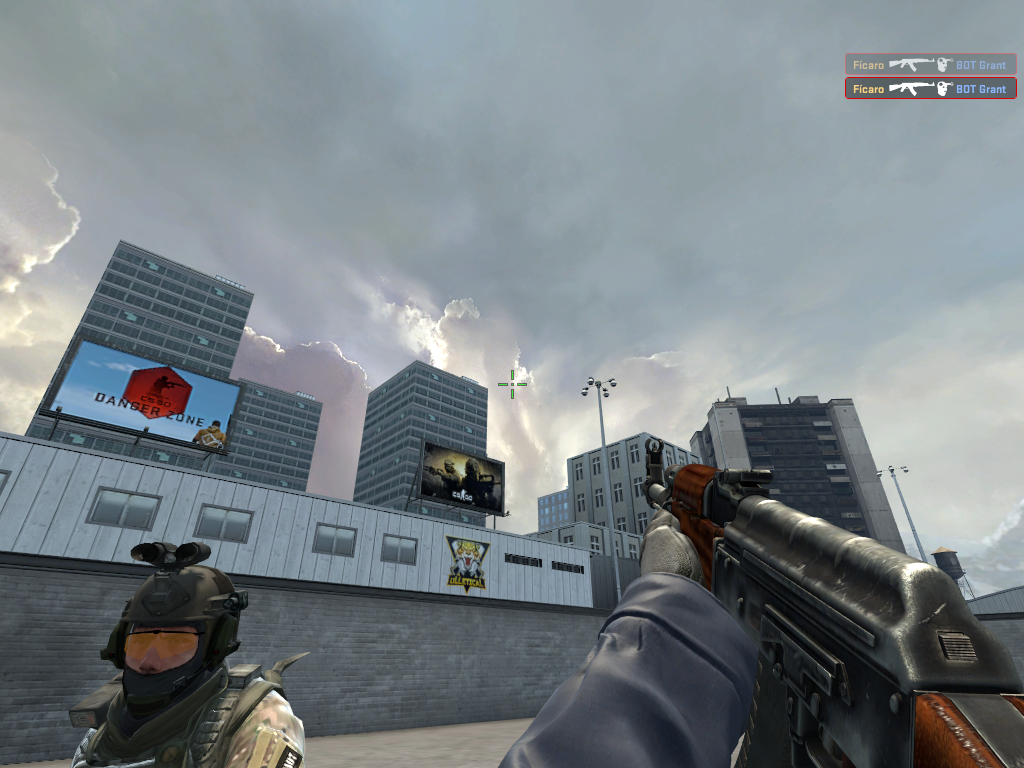ct head: (98, 557, 245, 715)
